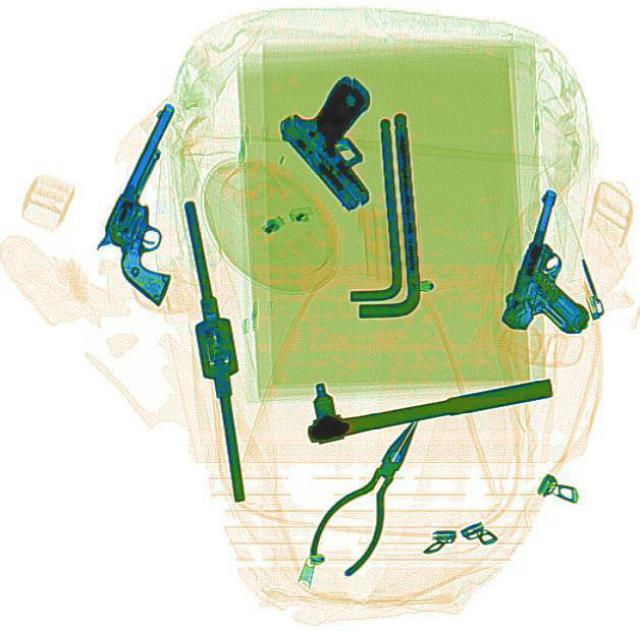Gun: (73, 98, 247, 305), (268, 69, 427, 213), (493, 185, 627, 348)
Pliers: (295, 403, 447, 583)
